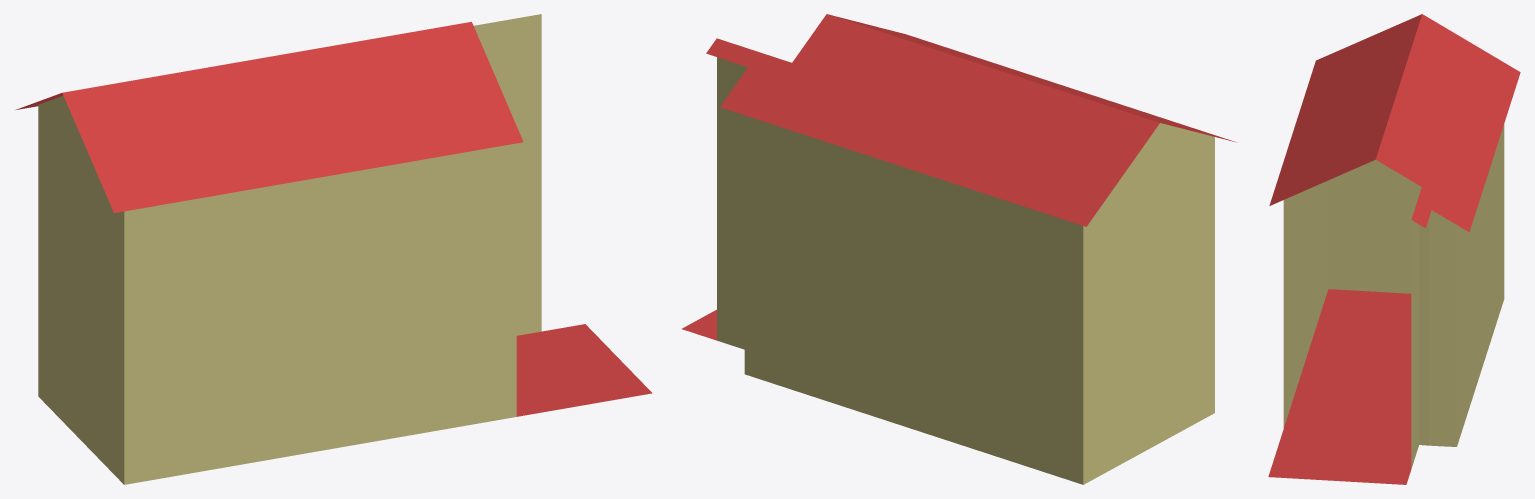
3 views of the same model, side by side, from view 1: azimuth 30°, elevation 25°; view 2: azimuth 150°, elevation 25°; view 3: azimuth 270°, elevation 25° (orthographic). The views are drawn at different scales.
Bounding box in the file's own units: 16.44 × 8.65 × 10.36.
